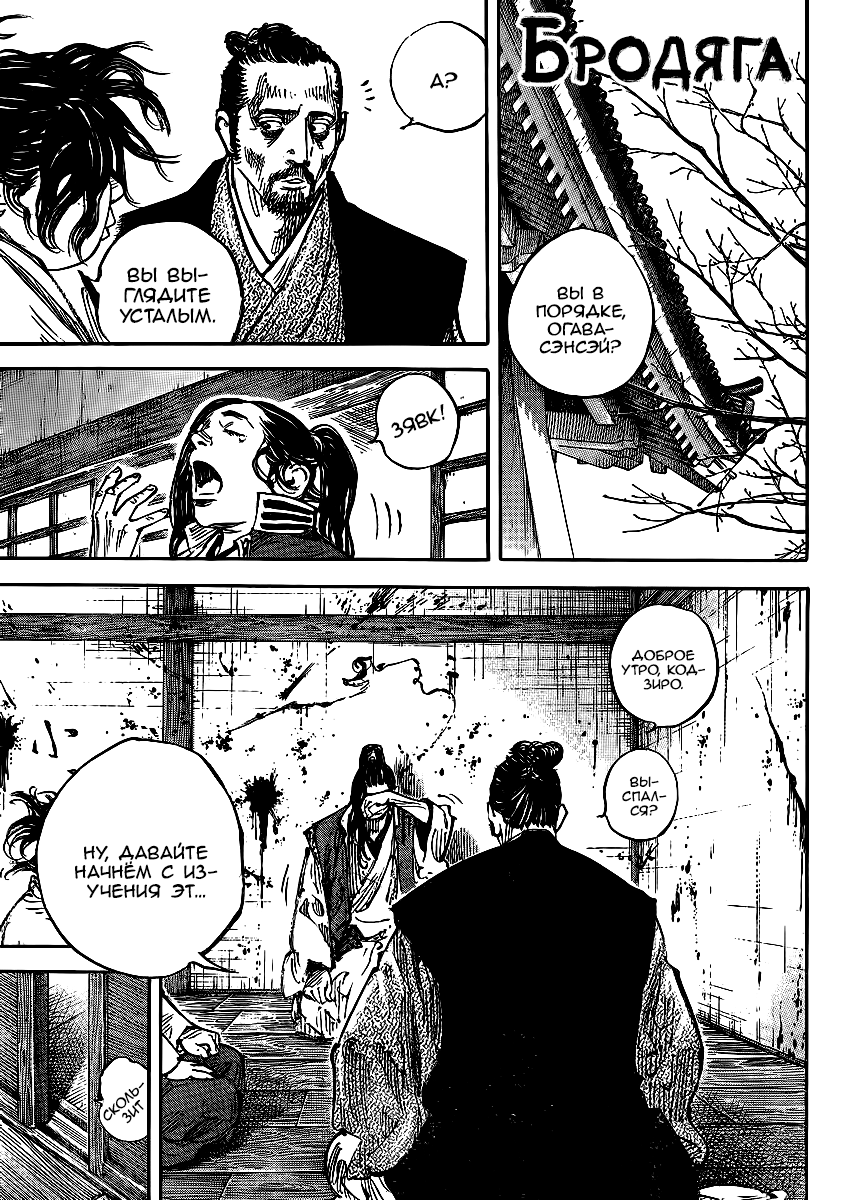frame: (1, 587, 810, 1200), (499, 1, 809, 562), (1, 1, 490, 346), (1, 367, 490, 562), (1, 969, 151, 1200)
